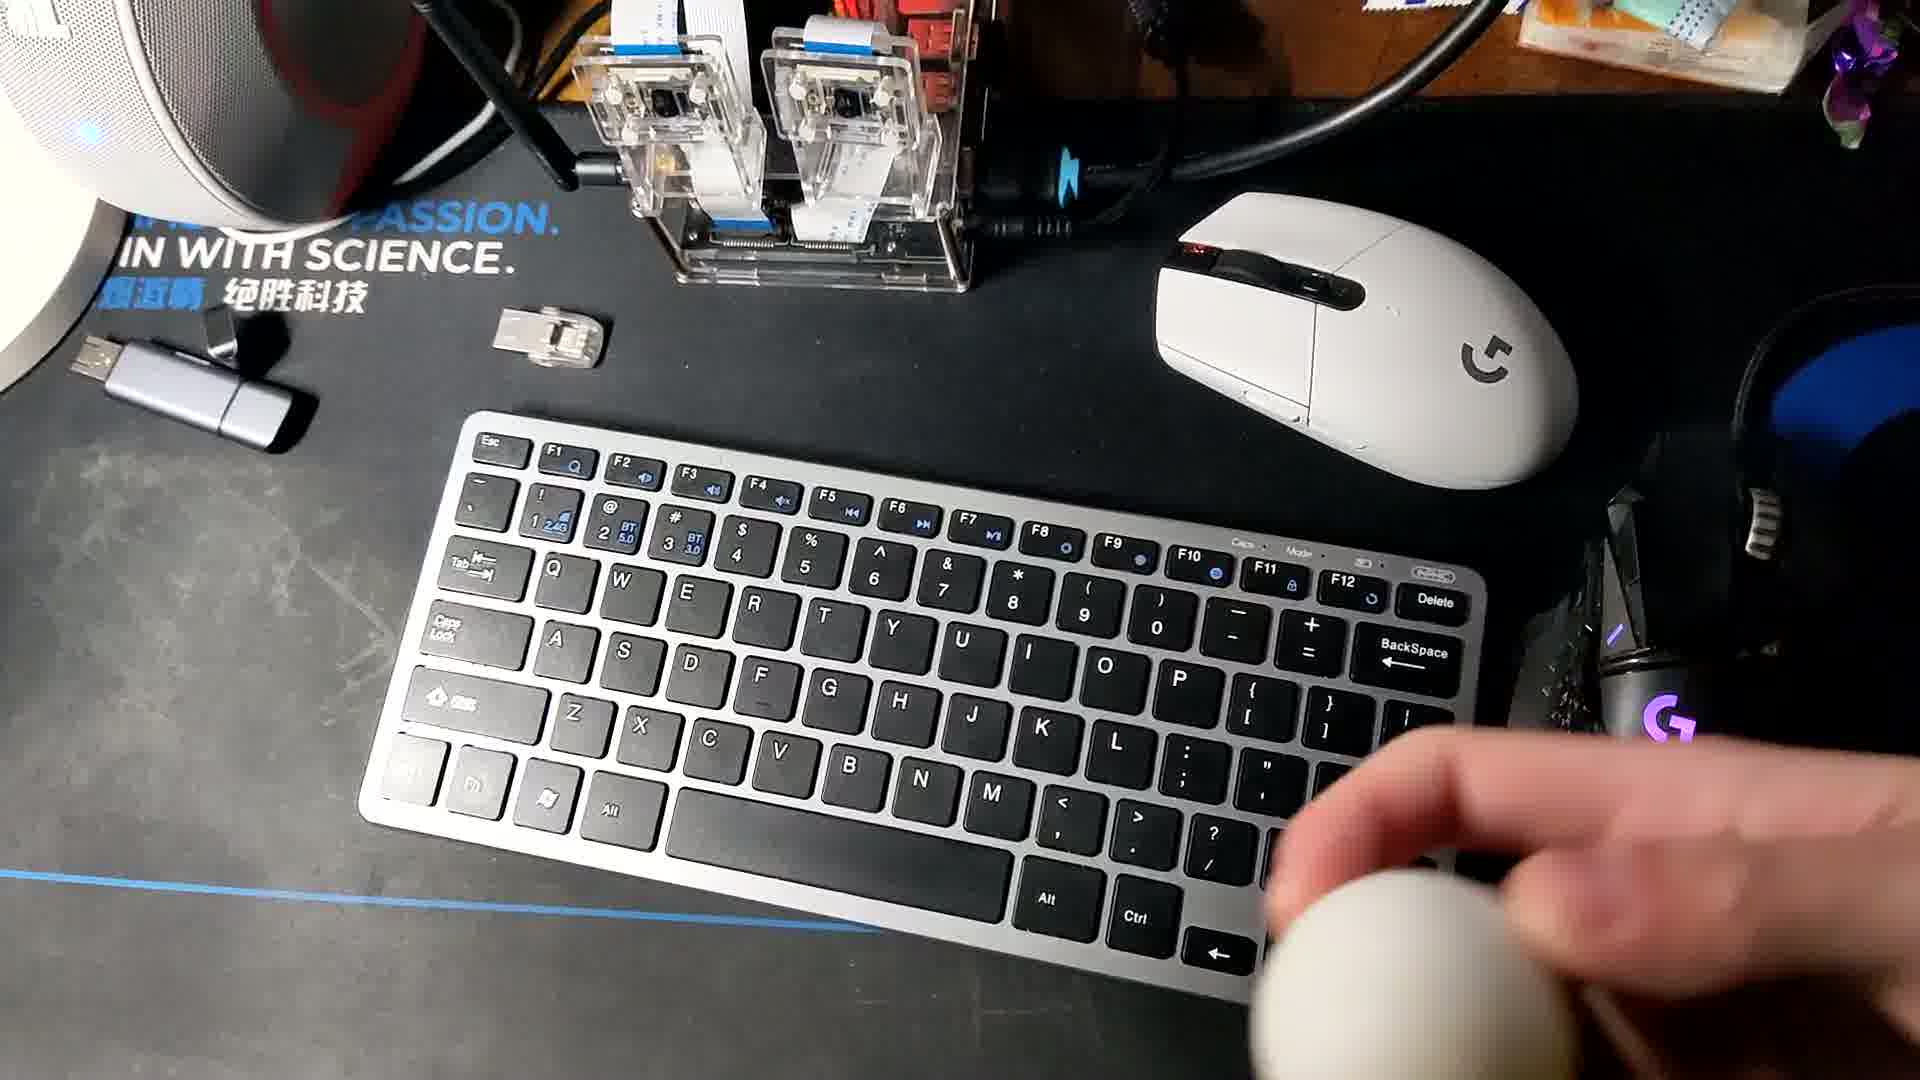Ball: (1255, 872, 1573, 1080)
